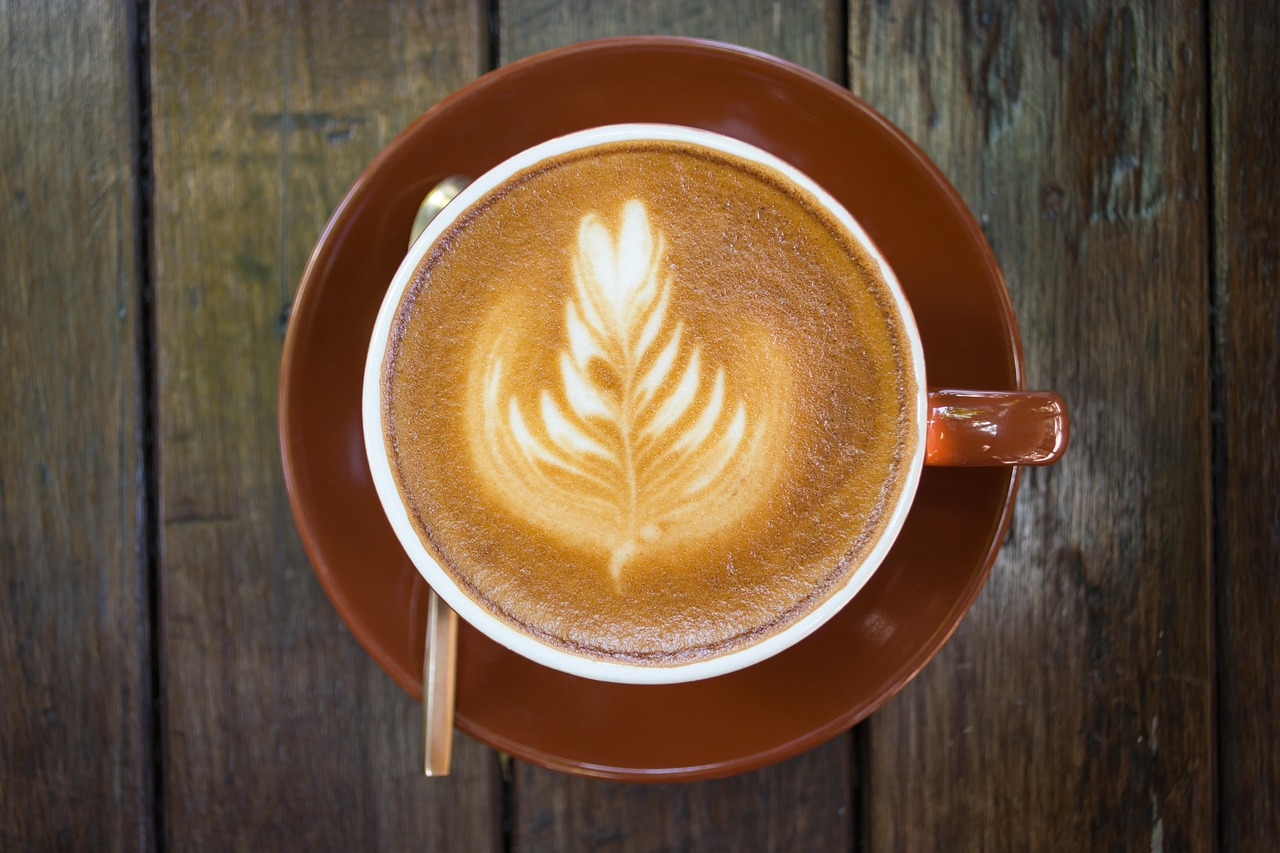mug: (358, 111, 1079, 745)
